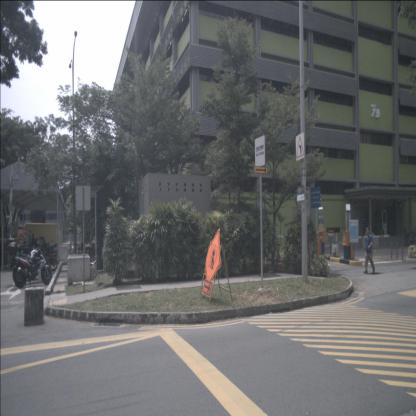human-pedestrian-adult: (363, 227, 375, 274), (91, 237, 96, 259), (28, 229, 32, 249), (31, 233, 35, 250), (32, 237, 36, 252), (80, 238, 84, 253), (38, 238, 43, 249), (42, 236, 46, 249), (35, 238, 39, 251), (29, 237, 32, 252), (24, 232, 26, 250), (19, 233, 21, 244), (21, 234, 23, 244)
movable_object-barrier: (24, 286, 44, 328)
movable_object-trafficcone: (396, 242, 399, 260), (401, 242, 404, 260), (391, 242, 393, 260)
vehicle-motorcycle: (8, 241, 52, 287), (30, 243, 57, 271)
